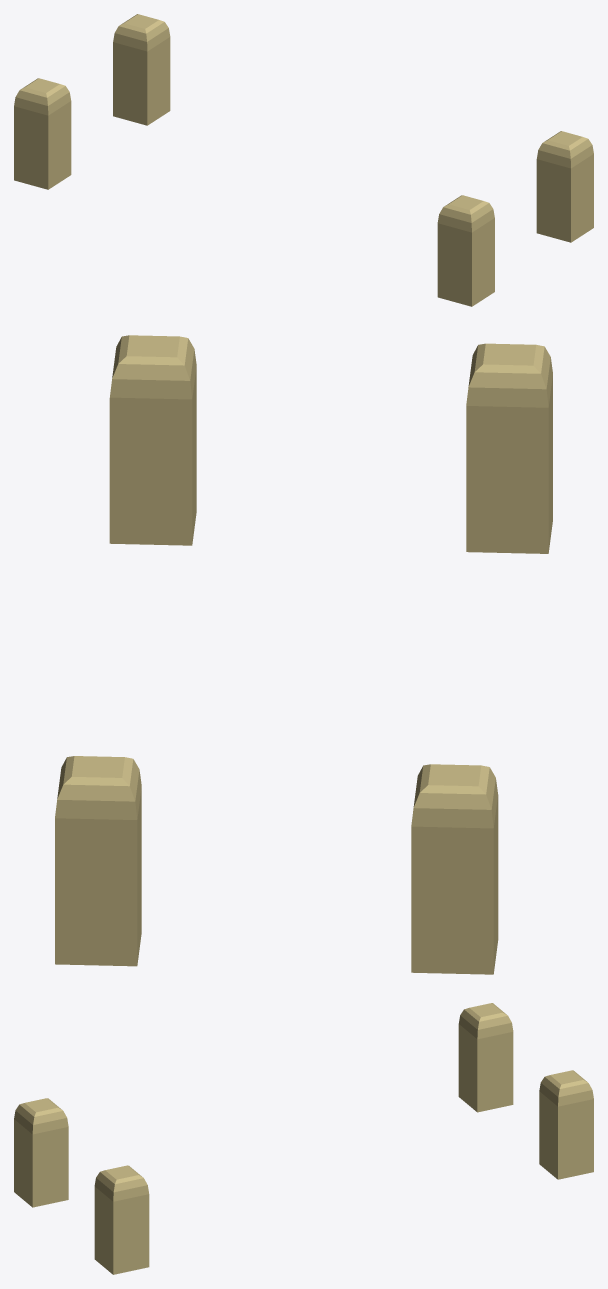
The picture shows the model from 3 angles, top to bottom: view 1: azimuth 30°, elevation 25°; view 2: azimuth 150°, elevation 25°; view 3: azimuth 270°, elevation 25°; orthographic projection. The views are drawn at different scales.
Visible parts, largest first — view 1: Cube.012; view 2: Cube.012; view 3: Cube.012.
Boxes of the visible parts, x1=… form: Cube.012: x1=14, y1=14, x2=593, y2=306; Cube.012: x1=55, y1=335, x2=552, y2=974; Cube.012: x1=14, y1=1003, x2=593, y2=1274.
Bounding box in the file's own units: 0.5899 × 0.1344 × 0.7788.
